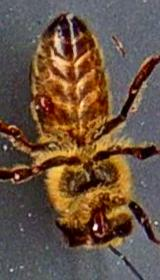varroa_mite: (29, 78, 60, 125)
